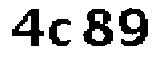4: (8, 6, 46, 55)
8: (81, 6, 116, 52)
9: (116, 5, 153, 50)
c: (47, 14, 77, 51)
